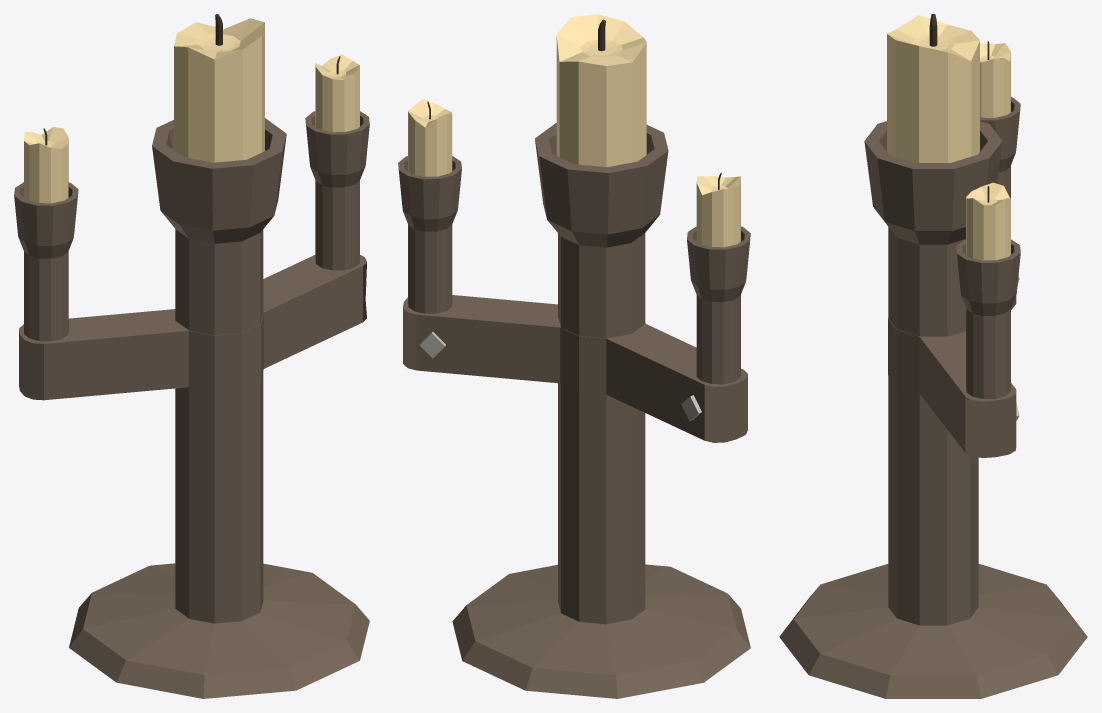
File: Candle.glb
3 renders of one model, left to right at view 1: azimuth 30°, elevation 25°; view 2: azimuth 150°, elevation 25°; view 3: azimuth 270°, elevation 25°, orthographic.
Parts seen in each view (by area): view 1: Stand Candle; view 2: Stand Candle; view 3: Stand Candle.
Part boxes in pixels (x1,y1,x2,y2): Stand Candle: [14, 14, 369, 698]; Stand Candle: [398, 14, 750, 698]; Stand Candle: [779, 14, 1087, 698].
Size of the model in its own units: 1.37 by 2.34 by 1.05.
